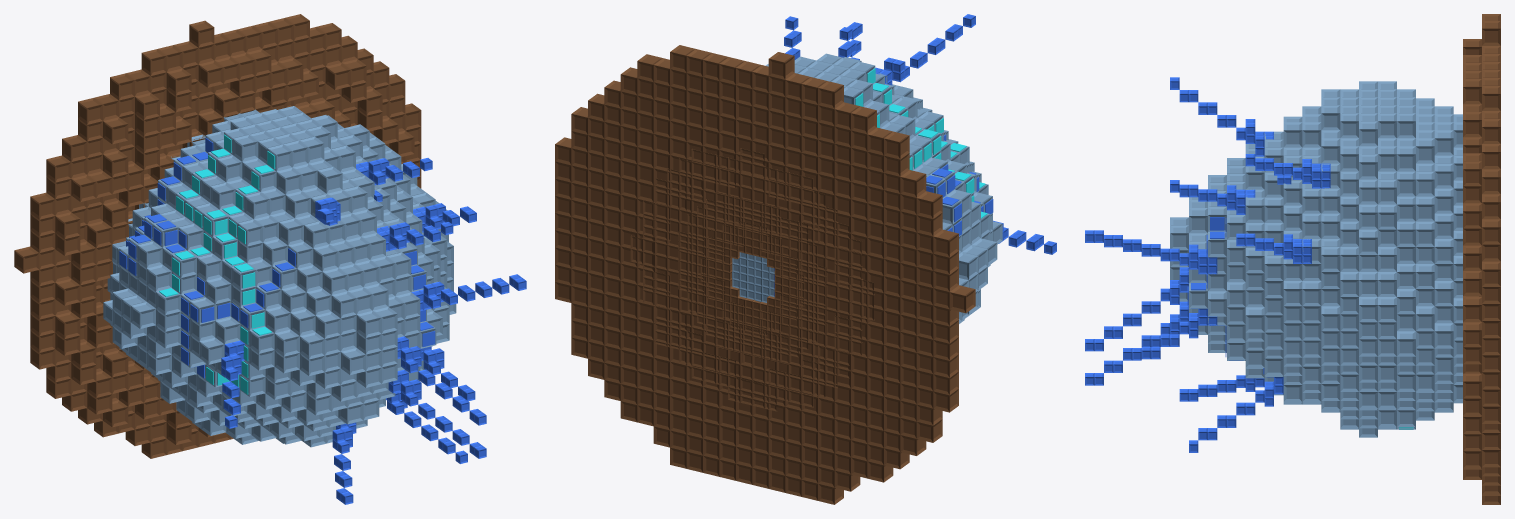
The model's file is Geodas_Zona3.fbx.
3 renders of one model, left to right at view 1: azimuth 30°, elevation 25°; view 2: azimuth 150°, elevation 25°; view 3: azimuth 270°, elevation 25°, orthographic. The views are drawn at different scales.
Parts seen in each view (by area): view 1: Roca.003, Base.003, Cristales.003, Grietas.003, Grietas2.003; view 2: Base.003, Base.002, Base.001, Roca.003, Base, Cristales.003, Grietas2.003, Roca, Grietas.003; view 3: Roca.003, Base.003, Cristales.003, Grietas.003.
Boxes of the visible parts, x1,y1,x2,y2 form: Roca.003: [103, 106, 456, 447]; Base.003: [14, 14, 421, 458]; Cristales.003: [221, 158, 526, 504]; Grietas.003: [119, 138, 435, 378]; Grietas2.003: [159, 134, 275, 394]; Base.003: [555, 45, 975, 504]; Base.002: [630, 148, 874, 411]; Base.001: [678, 192, 826, 365]; Roca.003: [765, 53, 1002, 323]; Base: [700, 220, 804, 335]; Cristales.003: [784, 14, 1056, 254]; Grietas2.003: [855, 68, 987, 218]; Roca: [732, 252, 774, 302]; Grietas.003: [926, 134, 993, 235]; Roca.003: [1170, 81, 1462, 437]; Base.003: [1463, 14, 1500, 504]; Cristales.003: [1085, 77, 1330, 452]; Grietas.003: [1187, 217, 1273, 377].
Bounding box in the file's own units: 4.67 × 4.67 × 4.11.
